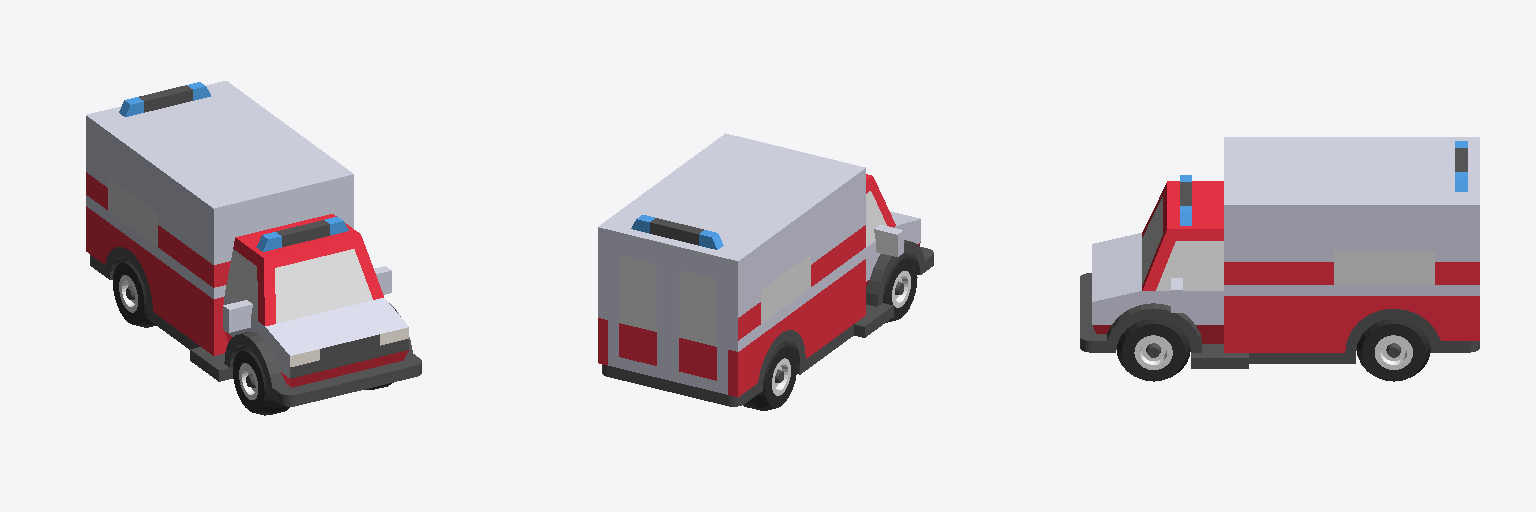
Rendered from ambulance.obj.
The picture shows the model from 3 angles: view 1: azimuth 30°, elevation 25°; view 2: azimuth 150°, elevation 25°; view 3: azimuth 270°, elevation 25°; orthographic projection.
Parts seen in each view (by area): view 1: body, wheel_frontRight, wheel_backRight; view 2: body, doorRight, doorLeft, wheel_backRight, wheel_frontRight; view 3: body, wheel_backLeft, wheel_frontLeft.
Part boxes in pixels (bbox=[...]): body: bbox=[86, 81, 421, 406]; wheel_frontRight: bbox=[233, 346, 289, 415]; wheel_backRight: bbox=[113, 258, 155, 327]; body: bbox=[598, 133, 933, 406]; doorRight: bbox=[668, 256, 727, 394]; doorLeft: bbox=[608, 241, 667, 379]; wheel_backRight: bbox=[743, 342, 796, 410]; wheel_frontRight: bbox=[883, 254, 917, 322]; body: bbox=[1080, 137, 1479, 368]; wheel_backLeft: bbox=[1357, 319, 1430, 381]; wheel_frontLeft: bbox=[1117, 319, 1190, 381].
Size of the model in its own units: 59.06 by 66.93 by 126.